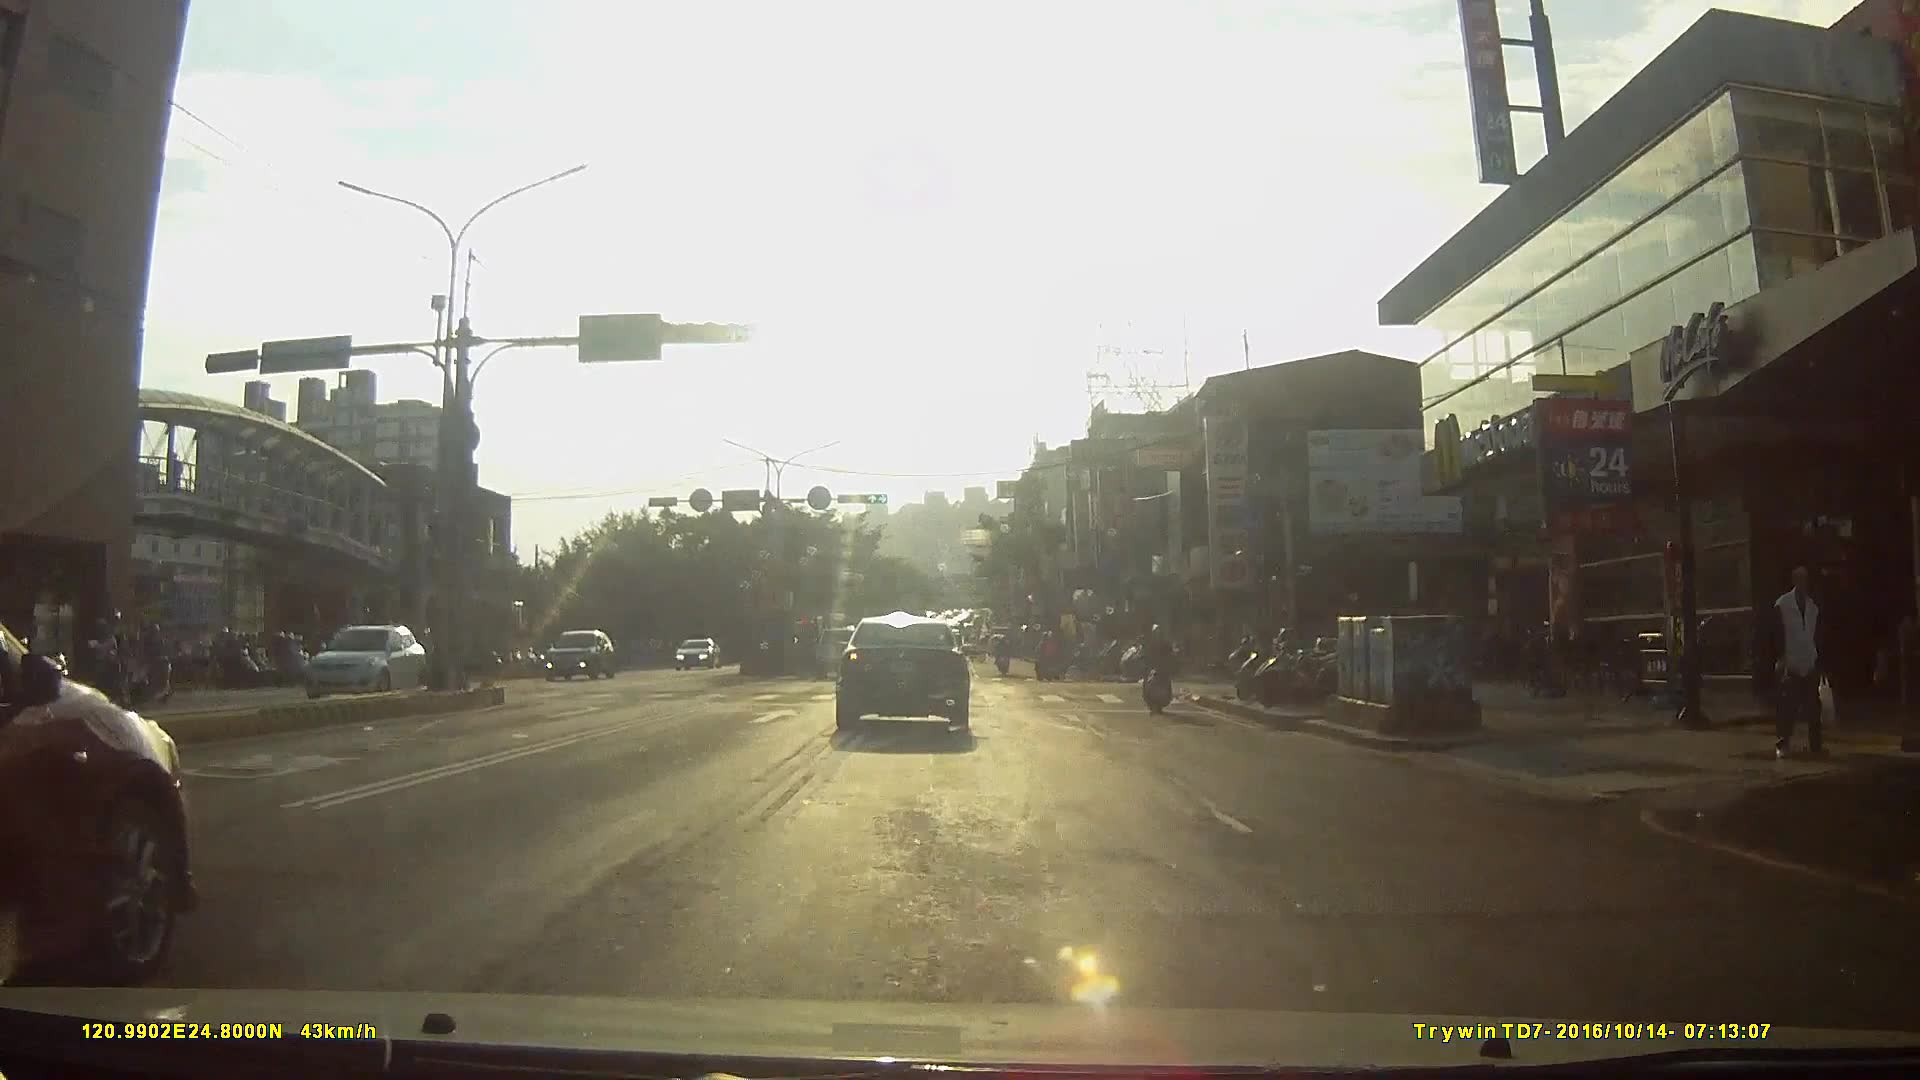pedestrian: (1762, 562, 1839, 766)
rider: (78, 611, 138, 713), (120, 621, 171, 707), (206, 626, 265, 690), (1139, 619, 1178, 716), (270, 631, 310, 687), (1036, 629, 1064, 680), (994, 634, 1014, 677)
vehicle: (1, 595, 204, 1001), (833, 608, 989, 735), (306, 620, 435, 706), (543, 629, 621, 686), (814, 618, 873, 673), (671, 633, 725, 670)
